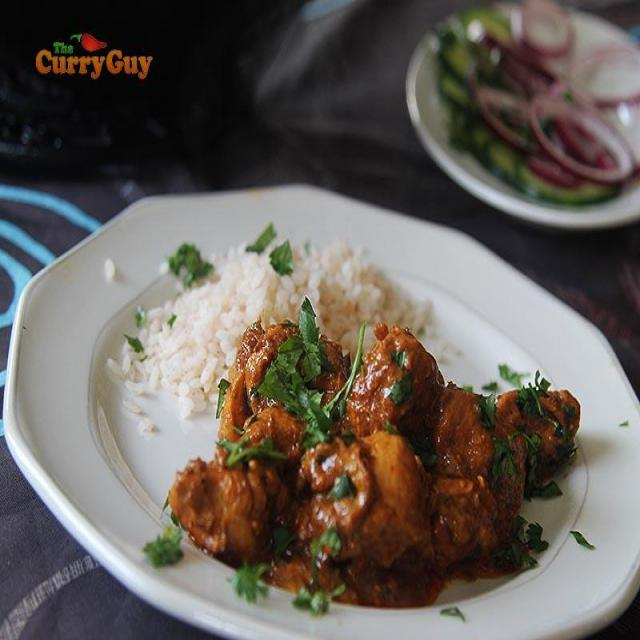chicken: (216, 332, 581, 609)
rice: (122, 224, 364, 351)
